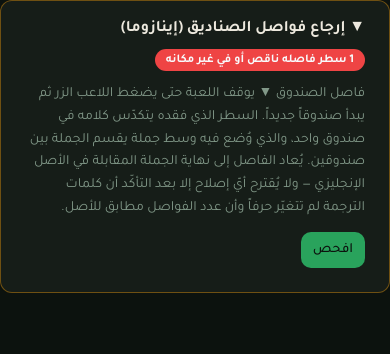
it: Inazuma break-restore panel (Platinum's tool, for ▼) › offers the unplaceable line for review instead of guessing
This screenshot has width=390, height=354.
What coordinates should you click on to do the following:
click the button "افحص"
I would click on:
 (333, 250)
Its box is [301,232,365,268].
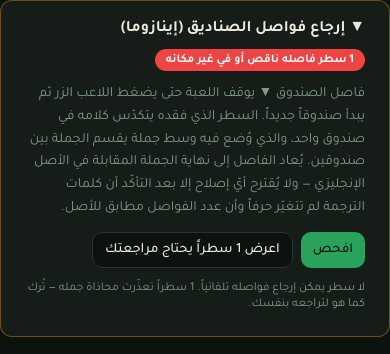
Check: the button "اعرض 1 سطراً يحتاج مراجعتك" is shown, box [92,232,293,268]
